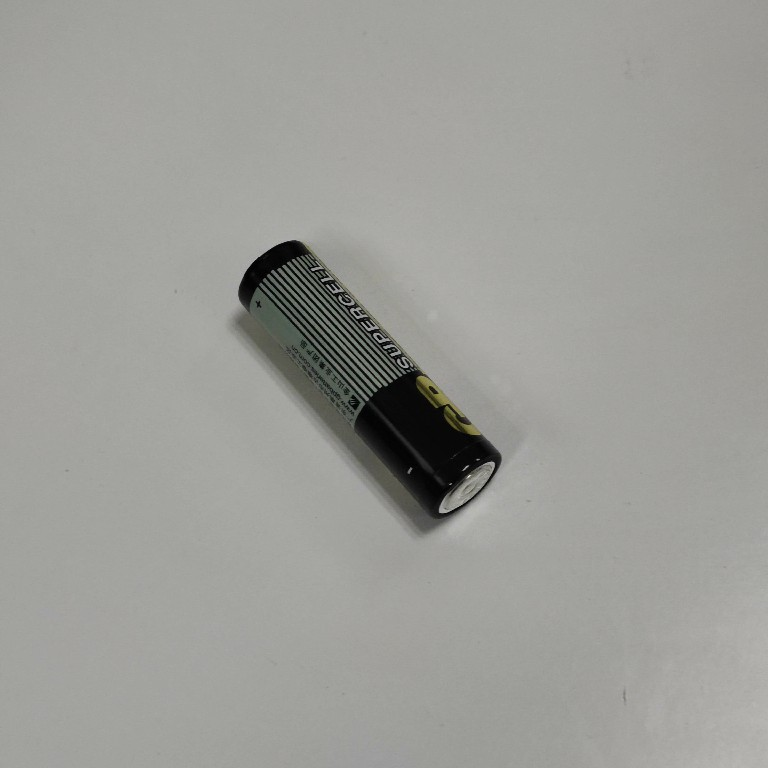charge: (233, 235, 509, 523)
